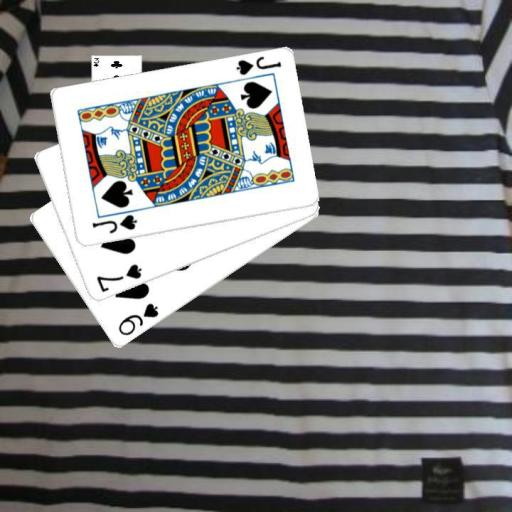7S: (93, 261, 143, 294)
9S: (114, 300, 160, 338)
JS: (233, 53, 283, 77), (89, 212, 139, 235)
